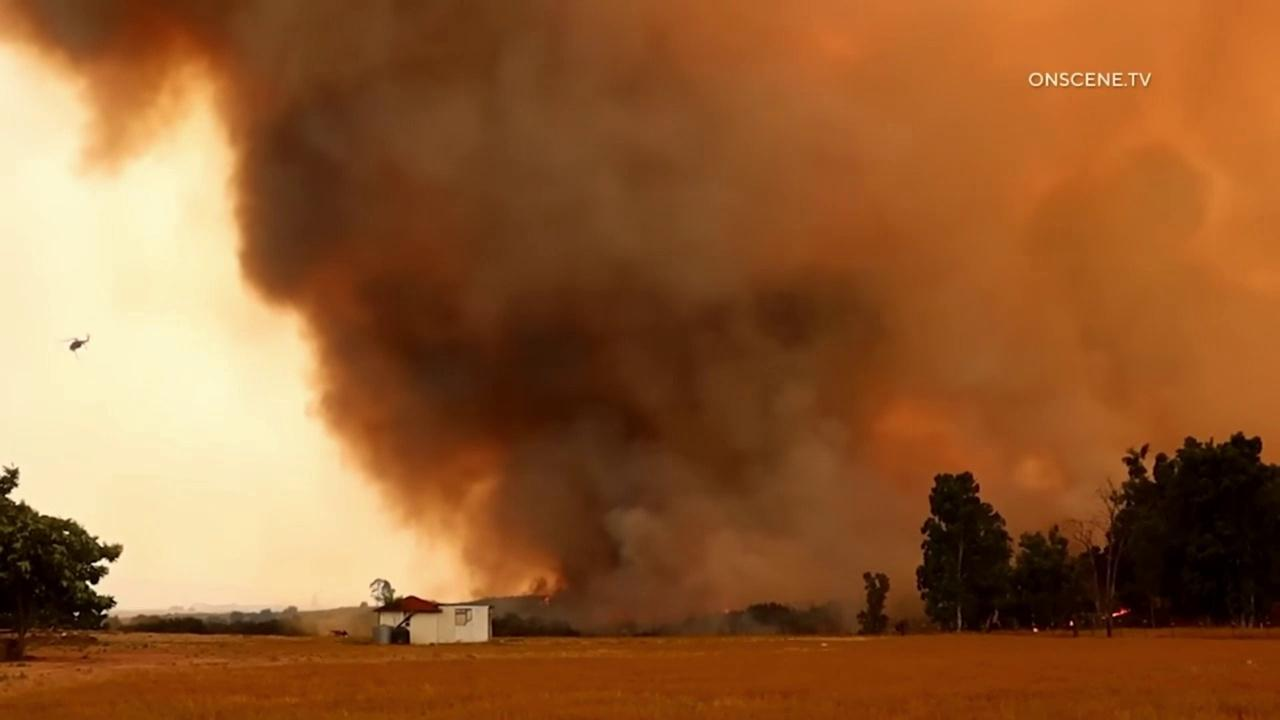fire: (1111, 608, 1129, 618), (1069, 620, 1075, 627), (1033, 627, 1038, 633)
smoke: (0, 0, 1280, 638), (290, 603, 374, 637)
